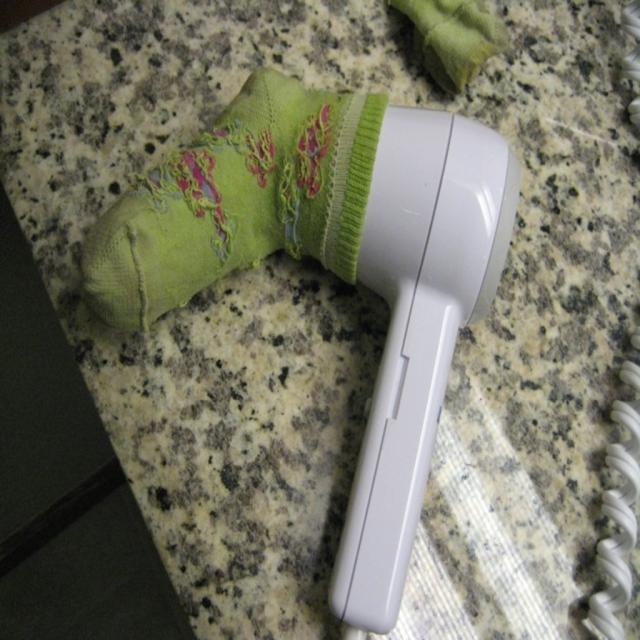dryer: (210, 40, 530, 638)
